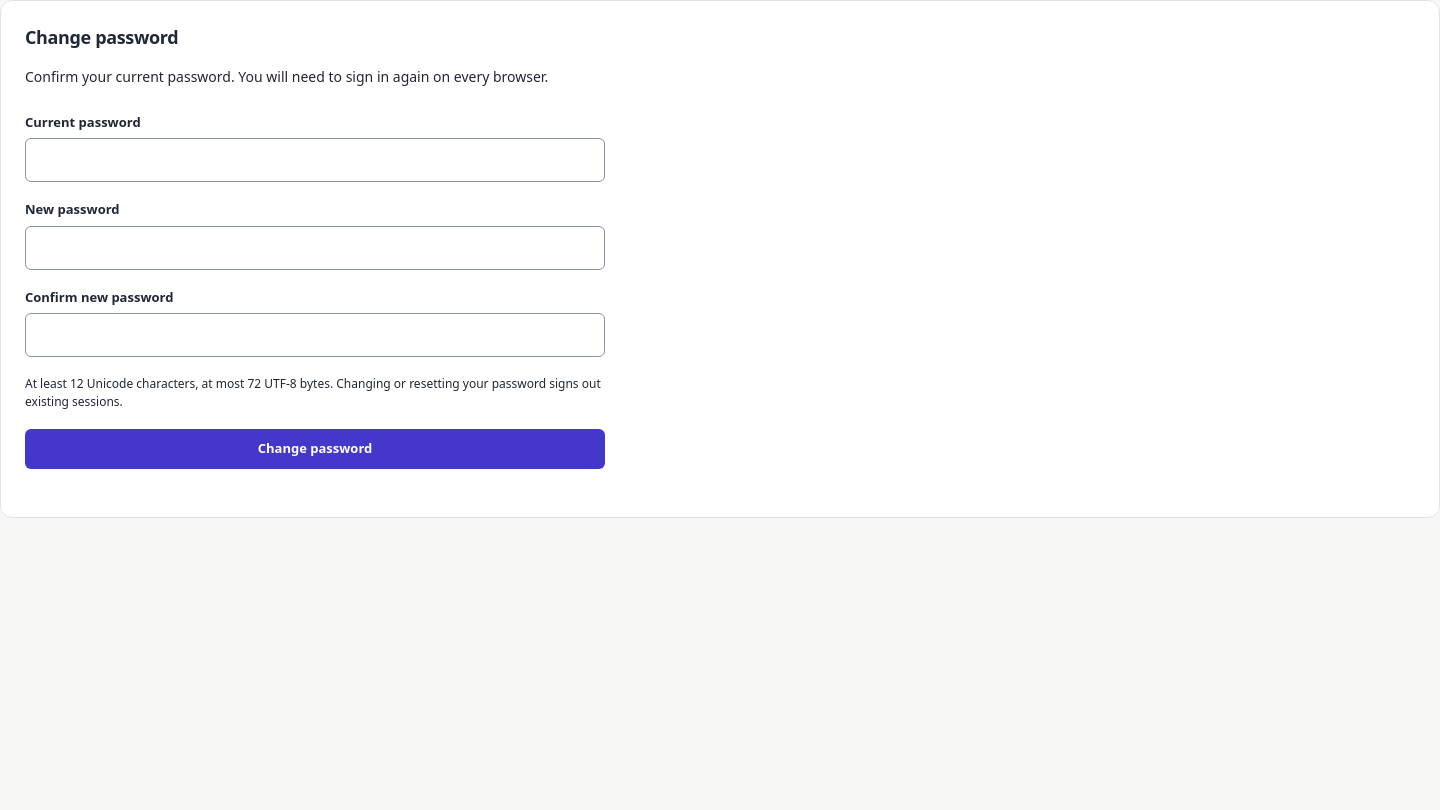
Test: changes credentials with the current password and ends the UI session on success
In the password field labelled "Current password": coordinates (315, 160) [25, 138, 605, 182], type "synthetic-old-password"
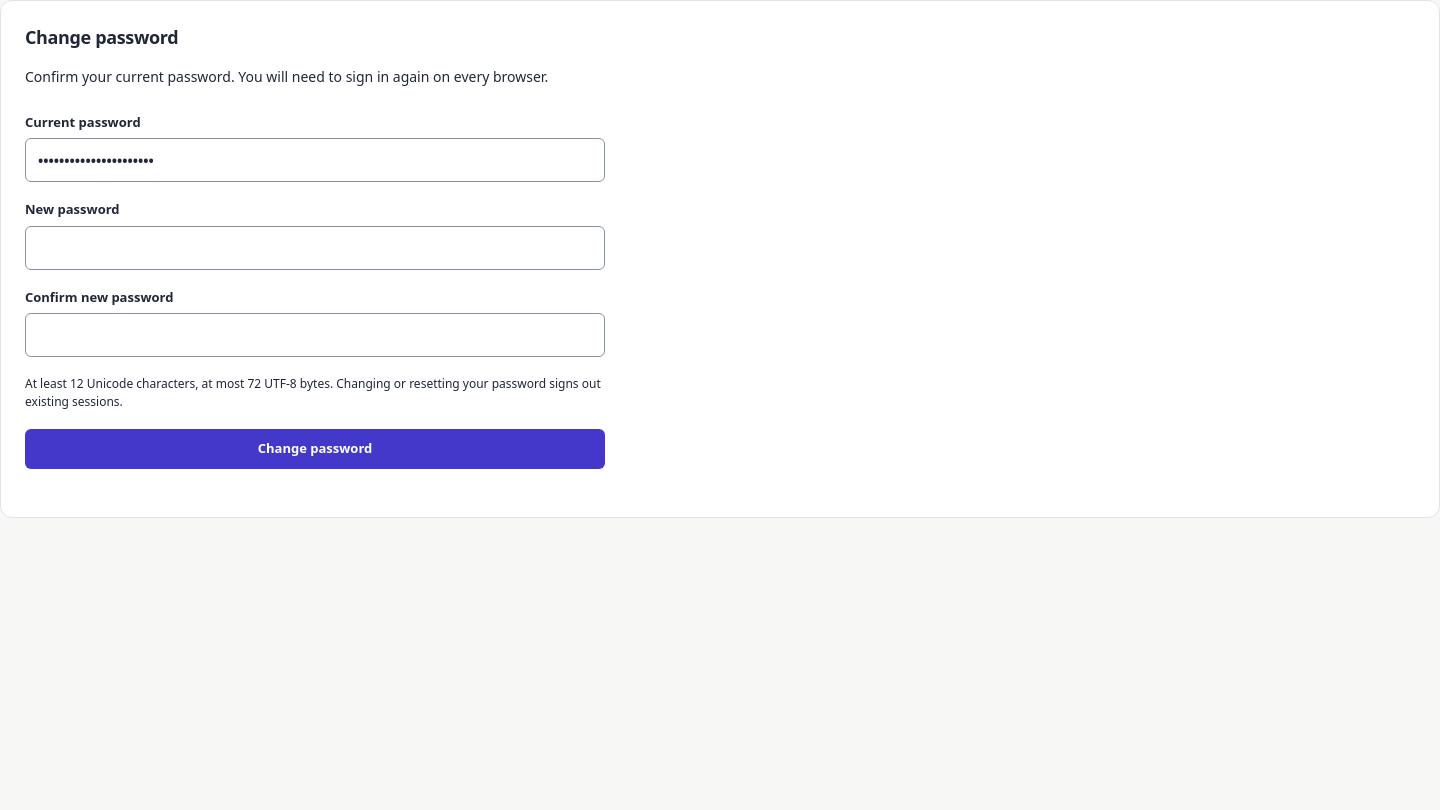
In the password field labelled "New password": coordinates (315, 248) [25, 226, 605, 270], type "synthetic-new-password"
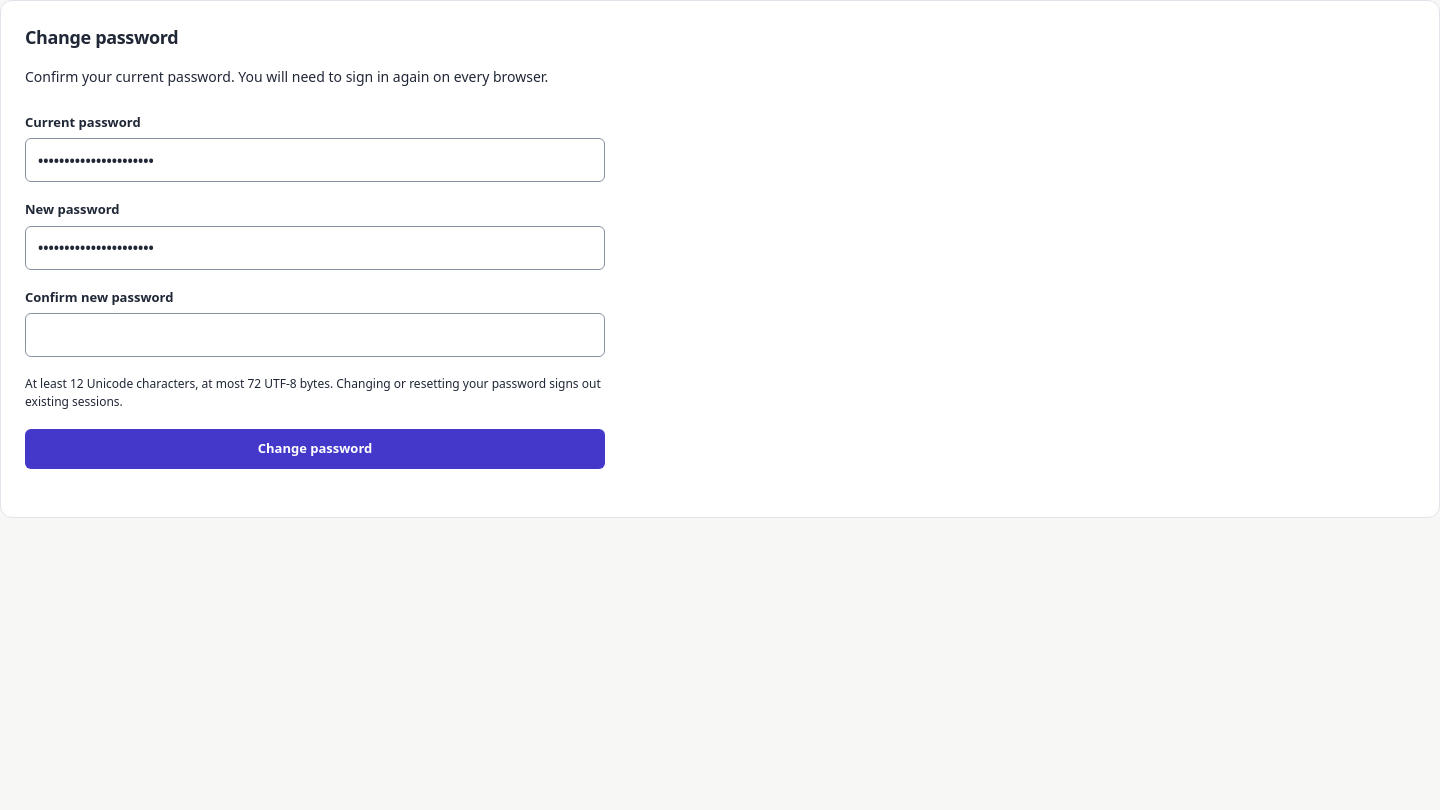
In the password field labelled "Confirm new password": coordinates (315, 335) [25, 313, 605, 357], type "synthetic-new-password"
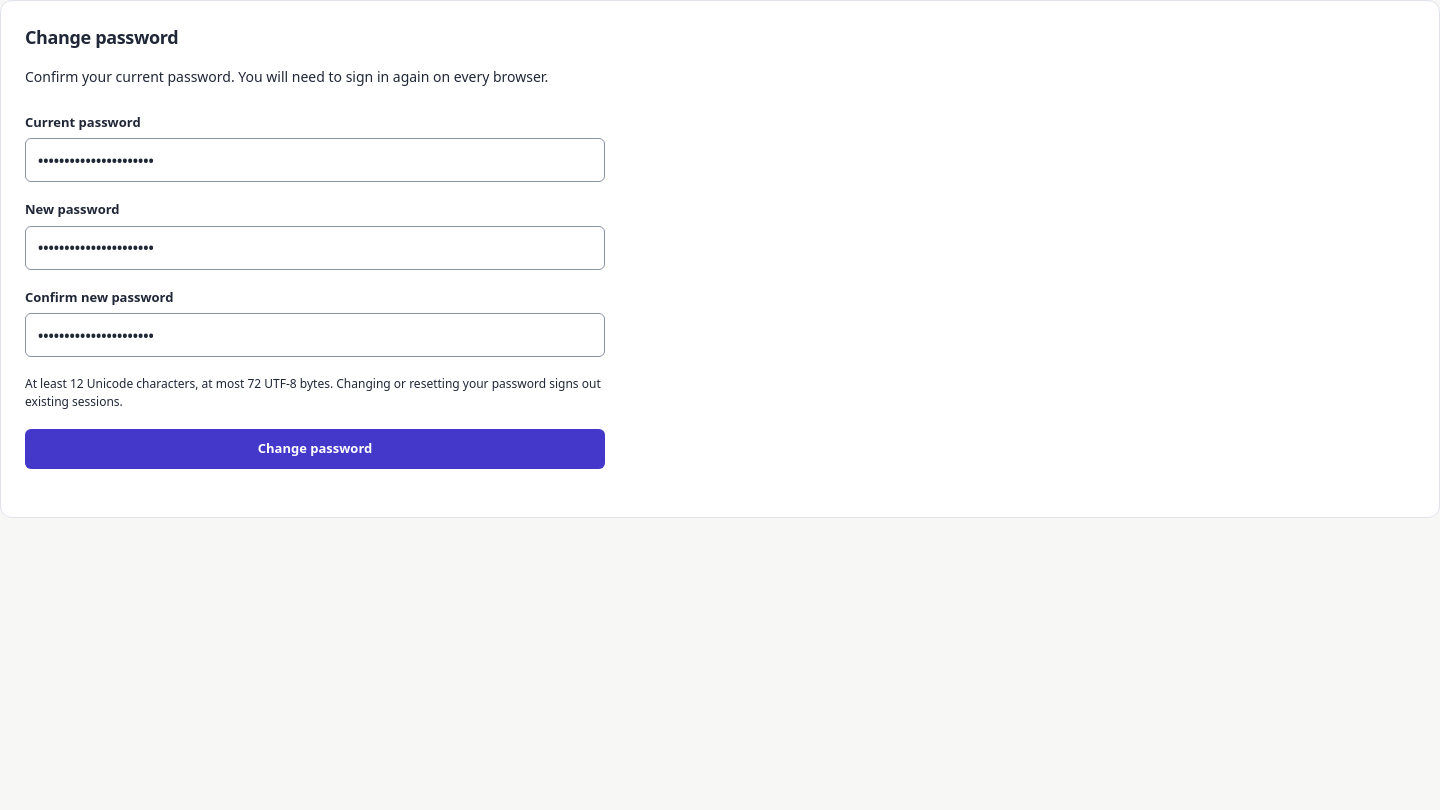
Click the button "Change password": coordinates (315, 449) [25, 429, 605, 469]
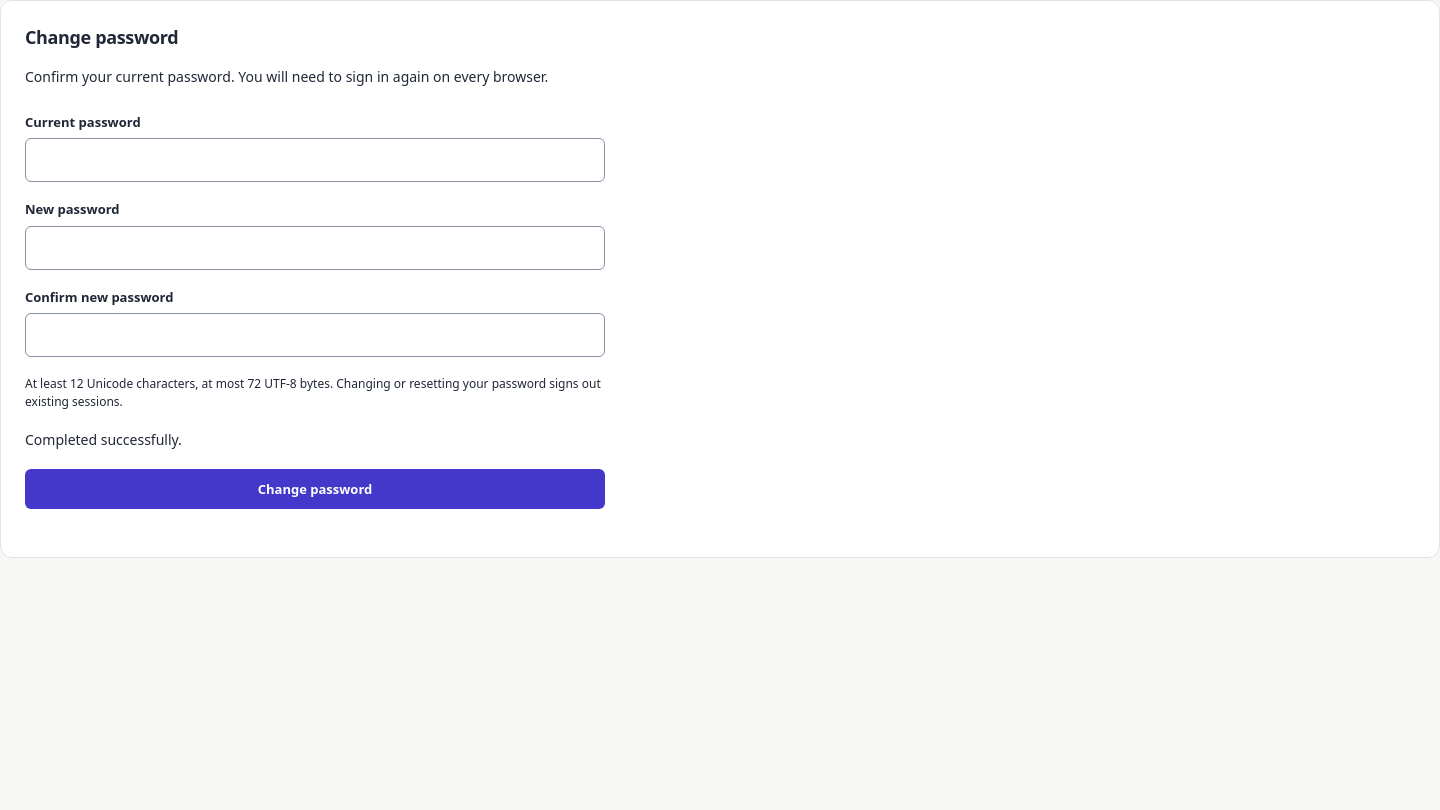
Now the text "Completed successfully." is shown, box [25, 430, 182, 449]
